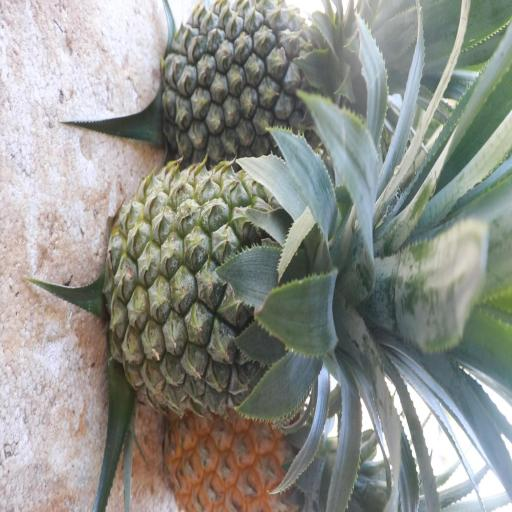------------------------------: (111, 164, 359, 411)
Pineapple - v8 v1: (169, 394, 338, 512)
